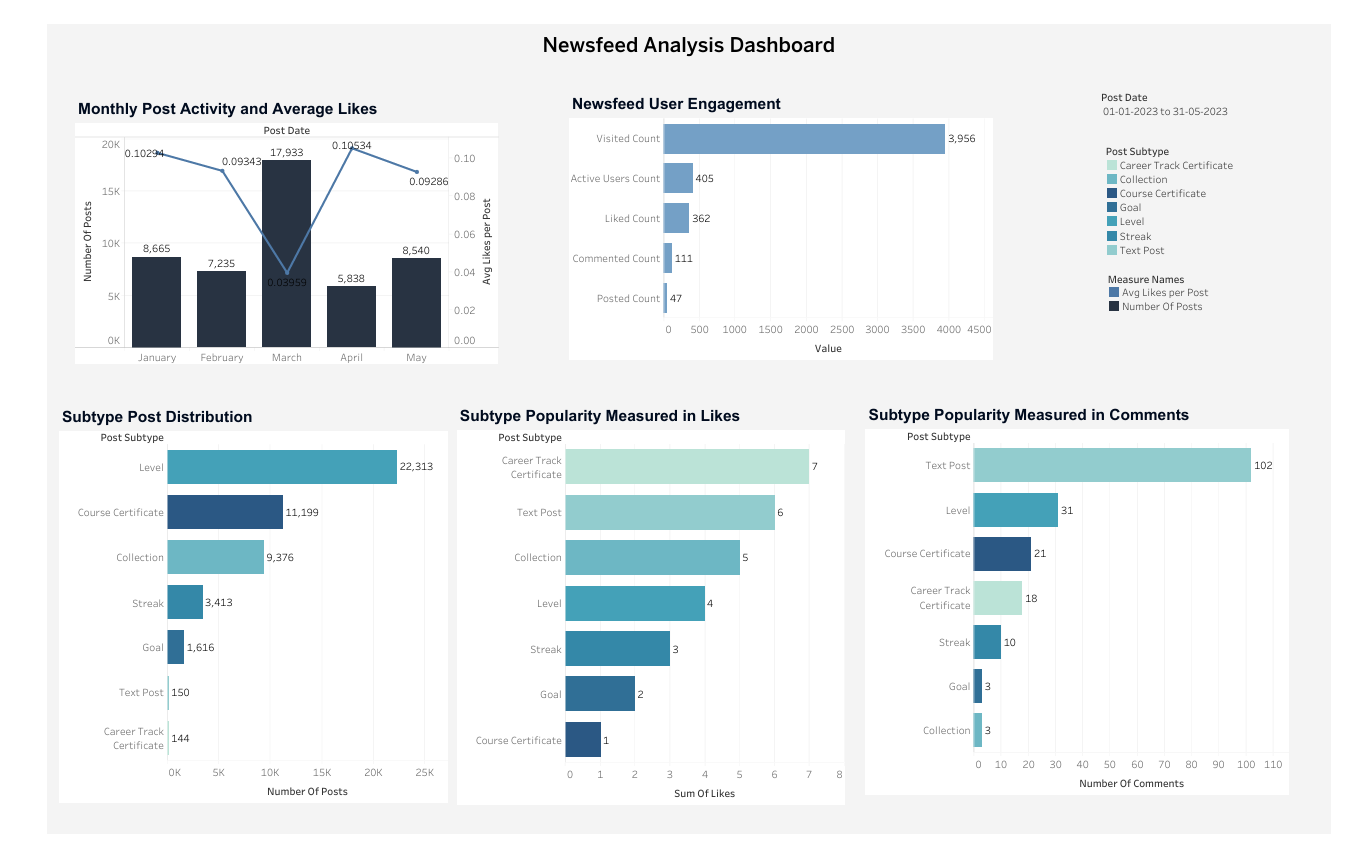

Layout of this report page (visuals, bound fields, positions):
{"tool":"tableau","page":{"name":"Dashboard 1","canvas":[1900,1200],"ordinal":0},"visuals":[{"type":"title","box":[8,8,1884,44]},{"type":"filter","title":"Sheet 1","param":"[federated.1u2n35i1xwz2qw16idjyf1kn14rl].[none:post_date:qk]","box":[1560,95,221,97]},{"type":"worksheet","title":"Sheet 5","mark":"Automatic","box":[773.4,97.5,627,399]},{"type":"worksheet","title":"Sheet 1","mark":"Bar","rows":["number_of_posts","Calculation_1135188627146539008"],"cols":["post_date"],"box":[42.5,105,627,399]},{"type":"legend","title":"Sheet 2","param":"[federated.1u2n35i1xwz2qw16idjyf1kn14rl].[none:post_subtype:nk]","box":[1566,175,236,254]},{"type":"legend","title":"Sheet 1","param":"[federated.1u2n35i1xwz2qw16idjyf1kn14rl].[:Measure Names]","box":[1569,364,174,96]},{"type":"worksheet","title":"Sheet 4","mark":"Automatic","rows":["post_subtype"],"cols":["number_of_comments"],"box":[1212,559,627,582]},{"type":"worksheet","title":"Sheet 3","mark":"Automatic","rows":["post_subtype"],"box":[607,560,573,596]},{"type":"worksheet","title":"Sheet 2","mark":"Automatic","rows":["post_subtype"],"cols":["number_of_posts"],"box":[18,561,575,592]}]}

Visuals, with their boxes in screenshot pixels (x1, y1, x2, y2), scaled from the page's 1900x1200 canvas onto the 1372x850 screenshot:
title: pyautogui.locateOnScreen(6, 6, 1366, 37)
"Sheet 1" filter: pyautogui.locateOnScreen(1126, 67, 1286, 136)
"Sheet 5" worksheet: pyautogui.locateOnScreen(558, 69, 1011, 352)
"Sheet 1" worksheet (Bar marks): pyautogui.locateOnScreen(31, 74, 483, 357)
"Sheet 2" legend: pyautogui.locateOnScreen(1131, 124, 1301, 304)
"Sheet 1" legend: pyautogui.locateOnScreen(1133, 258, 1259, 326)
"Sheet 4" worksheet: pyautogui.locateOnScreen(875, 396, 1328, 808)
"Sheet 3" worksheet: pyautogui.locateOnScreen(438, 397, 852, 819)
"Sheet 2" worksheet: pyautogui.locateOnScreen(13, 397, 428, 817)
